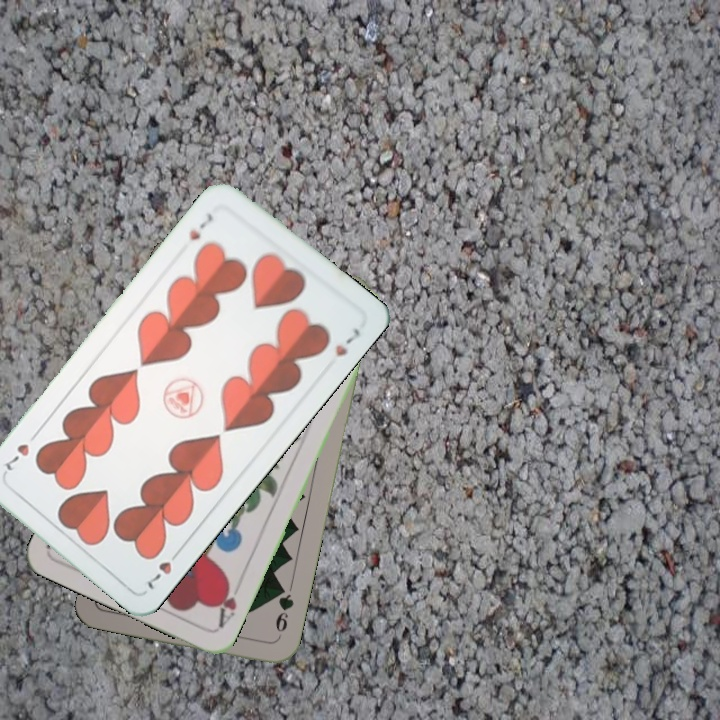G9: (271, 581, 297, 635)
H7: (139, 544, 184, 593), (185, 207, 216, 244)
HA: (212, 574, 240, 631)
